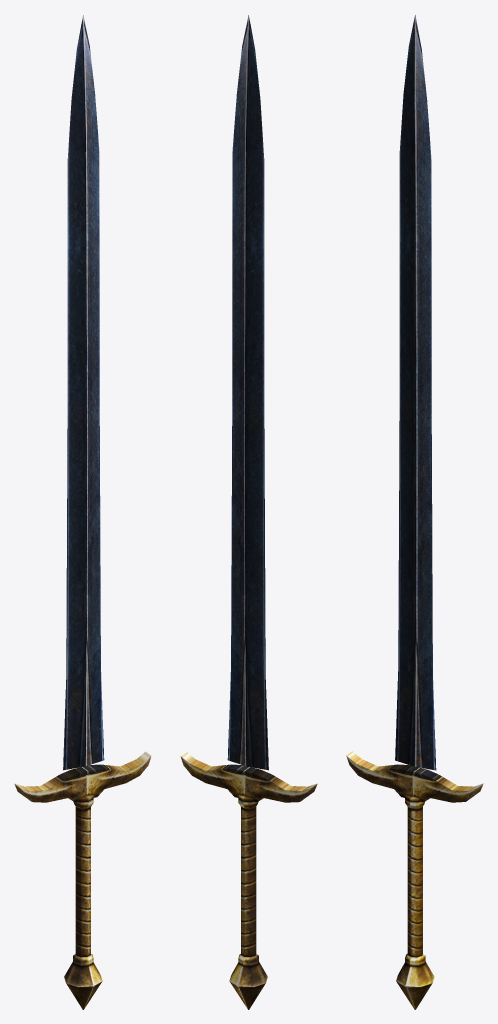
The model's file is mm8_m432_sword.glb.
3 views of the same model, side by side, from view 1: azimuth 30°, elevation 25°; view 2: azimuth 150°, elevation 25°; view 3: azimuth 330°, elevation 25° (orthographic).
Parts seen in each view (by area): view 1: Socket_Sword; view 2: Socket_Sword; view 3: Socket_Sword.
Part boxes in pixels (x1=…): Socket_Sword: x1=14, y1=15, x2=151, y2=1009; Socket_Sword: x1=180, y1=15, x2=317, y2=1009; Socket_Sword: x1=346, y1=15, x2=483, y2=1009.
Bounding box in the file's own units: 0.2279 × 1.65 × 0.06.
Materials: 1 (1 with a texture image).
